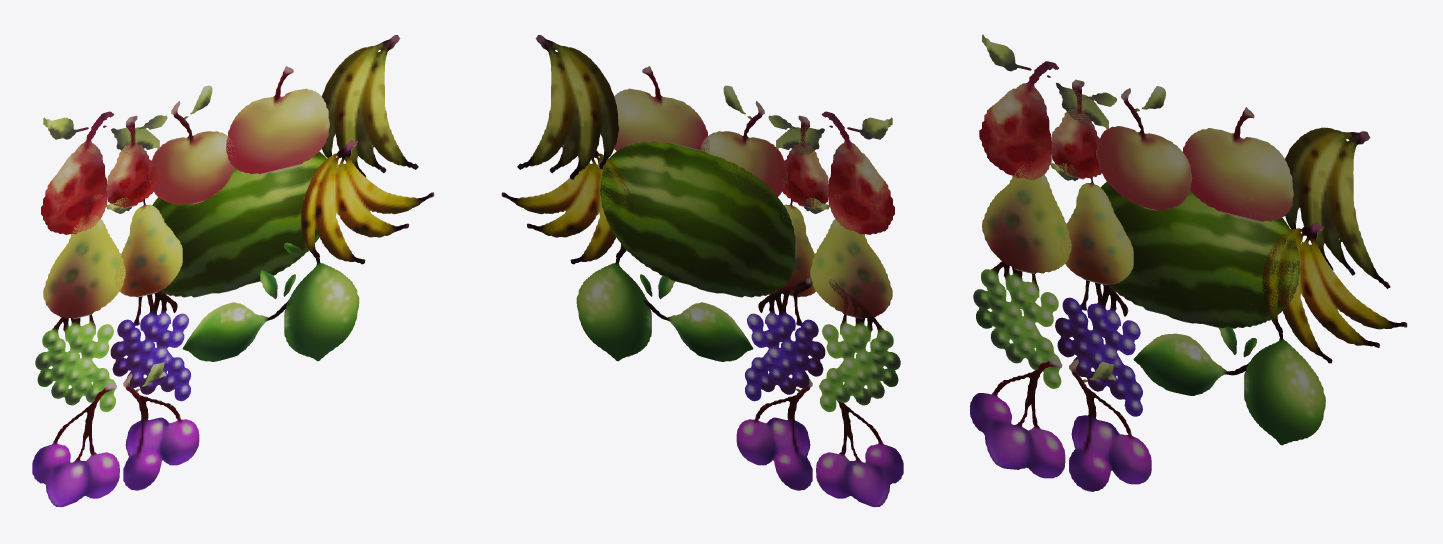
Rendered from Fruits.FBX.
3 renders of one model, left to right at view 1: azimuth 30°, elevation 25°; view 2: azimuth 150°, elevation 25°; view 3: azimuth 330°, elevation 25°, orthographic. The views are drawn at different scales.
Parts seen in each view (by area): view 1: Fruit H, Fruit I, Fruit D, Fruit E, Fruit A, Fruit F, Fruit M, Fruit C, Fruit K, Fruit J, Fruit O, Fruit G (+3 smaller); view 2: Fruit H, Fruit E, Fruit A, Fruit K, Fruit J, Fruit F, Fruit M, Fruit I, Fruit N, Fruit D, Fruit O, Fruit L (+3 smaller); view 3: Fruit H, Fruit I, Fruit E, Fruit D, Fruit A, Fruit F, Fruit C, Fruit M, Fruit K, Fruit J, Fruit O, Fruit N (+3 smaller).
Boxes of the visible parts, bbox=[...] form: Fruit H: bbox=[152, 151, 326, 297]; Fruit I: bbox=[301, 140, 434, 264]; Fruit D: bbox=[226, 66, 329, 174]; Fruit E: bbox=[322, 35, 418, 177]; Fruit A: bbox=[41, 111, 159, 234]; Fruit F: bbox=[43, 194, 125, 318]; Fruit M: bbox=[284, 242, 359, 361]; Fruit C: bbox=[148, 85, 235, 204]; Fruit K: bbox=[110, 291, 190, 401]; Fruit J: bbox=[35, 314, 115, 412]; Fruit O: bbox=[123, 362, 199, 490]; Fruit G: bbox=[106, 189, 182, 297]; Fruit H: bbox=[600, 141, 796, 297]; Fruit E: bbox=[517, 35, 618, 179]; Fruit A: bbox=[776, 111, 894, 234]; Fruit K: bbox=[745, 278, 825, 401]; Fruit J: bbox=[820, 278, 900, 412]; Fruit F: bbox=[810, 194, 892, 318]; Fruit M: bbox=[576, 246, 651, 361]; Fruit I: bbox=[501, 151, 633, 264]; Fruit N: bbox=[816, 385, 903, 507]; Fruit D: bbox=[614, 66, 709, 151]; Fruit O: bbox=[736, 378, 812, 490]; Fruit L: bbox=[640, 274, 753, 361]; Fruit H: bbox=[1100, 182, 1300, 328]; Fruit I: bbox=[1262, 222, 1407, 363]; Fruit E: bbox=[1285, 127, 1390, 288]; Fruit D: bbox=[1182, 107, 1293, 221]; Fruit A: bbox=[979, 34, 1108, 180]; Fruit F: bbox=[982, 147, 1071, 273]; Fruit C: bbox=[1096, 86, 1192, 210]; Fruit M: bbox=[1244, 304, 1325, 445]; Fruit K: bbox=[1055, 280, 1142, 416]; Fruit J: bbox=[973, 261, 1061, 388]; Fruit O: bbox=[1069, 359, 1151, 491]; Fruit N: bbox=[970, 357, 1065, 478].
Bounding box in the file's own units: 208 × 2.95e-05 × 196.
